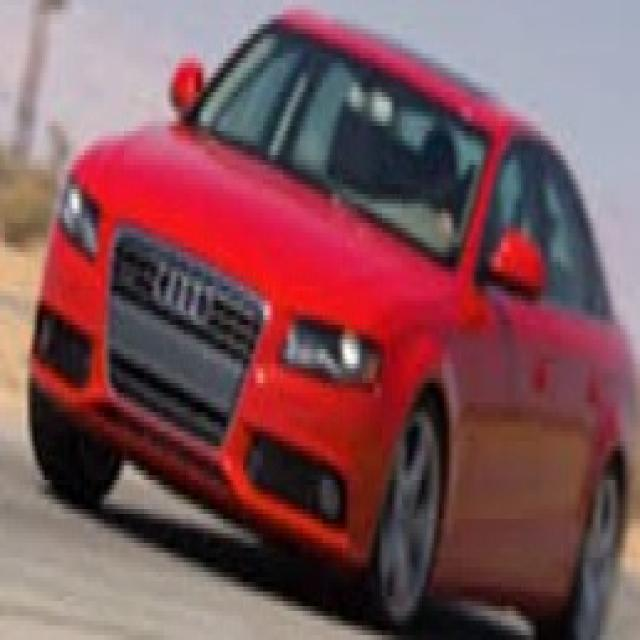red: (34, 0, 640, 620)
